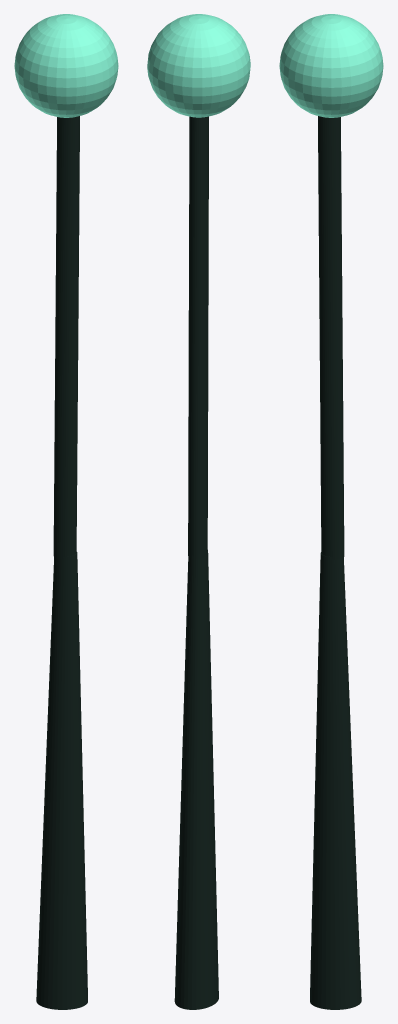
File: Farol B.dae
The picture shows the model from 3 angles, left to right: view 1: azimuth 90°, elevation 25°; view 2: azimuth 150°, elevation 25°; view 3: azimuth 270°, elevation 25°; orthographic projection.
Parts seen in each view (by area): view 1: Cilindro.002, Cilindro.001, Esfera; view 2: Cilindro.002, Cilindro.001, Esfera; view 3: Cilindro.002, Cilindro.001, Esfera.
Part boxes in pixels (x1=…): Cilindro.002: x1=36, y1=552, x2=87, y2=1009; Cilindro.001: x1=53, y1=116, x2=79, y2=559; Esfera: x1=14, y1=14, x2=118, y2=117; Cilindro.002: x1=174, y1=550, x2=218, y2=1009; Cilindro.001: x1=188, y1=116, x2=208, y2=559; Esfera: x1=147, y1=14, x2=250, y2=117; Cilindro.002: x1=310, y1=552, x2=361, y2=1009; Cilindro.001: x1=318, y1=116, x2=344, y2=559; Esfera: x1=279, y1=14, x2=383, y2=117.
Size of the model in its own units: 0.9009 by 0.9009 by 9.39.
